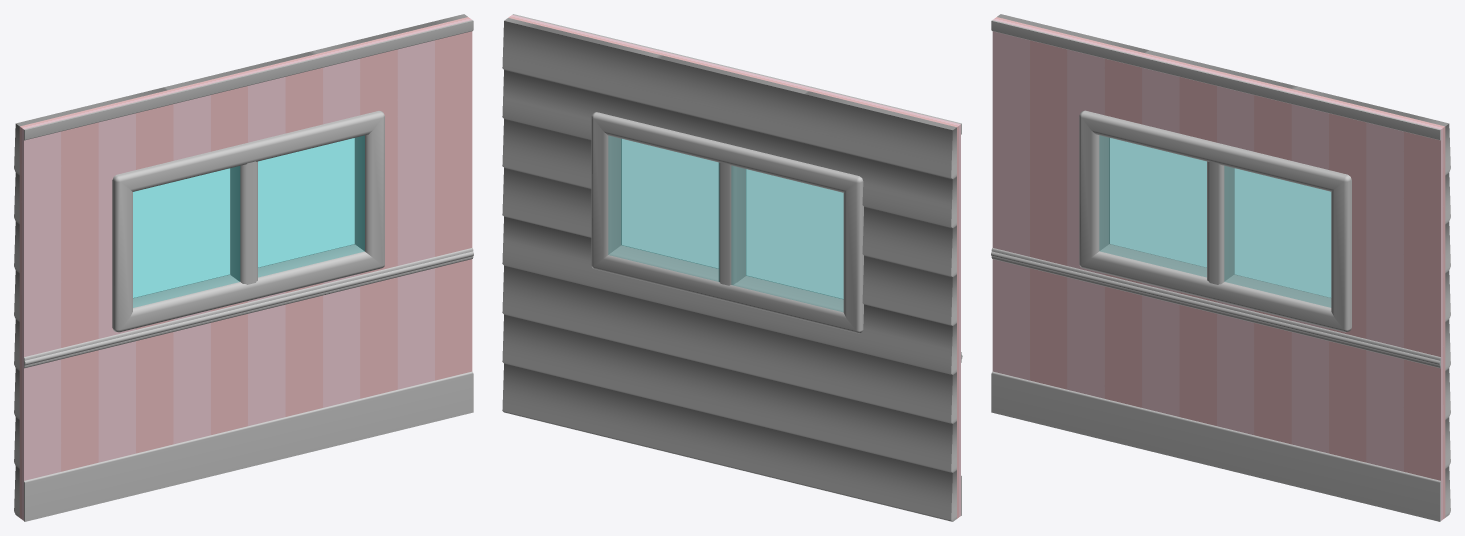
Rendered from Window_Cutout_Centered.fbx.
3 views of the same model, side by side, from view 1: azimuth 30°, elevation 25°; view 2: azimuth 150°, elevation 25°; view 3: azimuth 330°, elevation 25° (orthographic).
Visible parts, largest first — view 1: Wall_Interior4_Window, Wall_Interior5_Window1, Window_Transparent, Wall_Interior5_Window, Wall_Exterior5_Window, Wall_Exterior6_Window, Wall_Exterior6_Window1; view 2: Wall_Exterior5_Window, Wall_Exterior6_Window1, Window_Transparent, Wall_Exterior6_Window, Wall_Interior4_Window, Wall_Interior5_Window, Wall_Interior5_Window1; view 3: Wall_Interior5_Window1, Wall_Interior4_Window, Window_Transparent, Wall_Interior5_Window, Wall_Exterior6_Window1, Wall_Exterior6_Window, Wall_Exterior5_Window.
Boxes of the visible parts, x1=… form: Wall_Interior4_Window: x1=19, y1=90, x2=174, y2=521; Wall_Interior5_Window1: x1=319, y1=17, x2=473, y2=448; Window_Transparent: x1=112, y1=111, x2=384, y2=332; Wall_Interior5_Window: x1=170, y1=53, x2=324, y2=485; Wall_Exterior5_Window: x1=14, y1=87, x2=168, y2=517; Wall_Exterior6_Window: x1=165, y1=50, x2=318, y2=89; Wall_Exterior6_Window1: x1=315, y1=14, x2=467, y2=53; Wall_Exterior5_Window: x1=801, y1=91, x2=956, y2=521; Wall_Exterior6_Window1: x1=502, y1=18, x2=657, y2=448; Window_Transparent: x1=591, y1=112, x2=863, y2=333; Wall_Exterior6_Window: x1=652, y1=54, x2=806, y2=485; Wall_Interior4_Window: x1=807, y1=87, x2=962, y2=518; Wall_Interior5_Window: x1=658, y1=50, x2=811, y2=90; Wall_Interior5_Window1: x1=508, y1=14, x2=662, y2=54; Wall_Interior5_Window1: x1=1290, y1=90, x2=1445, y2=521; Wall_Interior4_Window: x1=991, y1=17, x2=1145, y2=448; Window_Transparent: x1=1079, y1=110, x2=1351, y2=332; Wall_Interior5_Window: x1=1140, y1=53, x2=1294, y2=485; Wall_Exterior6_Window1: x1=1296, y1=87, x2=1450, y2=517; Wall_Exterior6_Window: x1=1146, y1=50, x2=1299, y2=89; Wall_Exterior5_Window: x1=997, y1=14, x2=1149, y2=53.
Bounding box in the file's own units: 3 × 2.5 × 0.1848.
